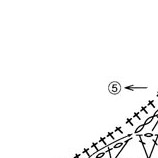enseble_chain: (88, 121, 135, 158), (117, 96, 158, 138), (103, 129, 143, 158), (135, 133, 154, 158), (123, 80, 151, 96), (74, 141, 100, 158), (142, 134, 158, 158), (107, 81, 122, 95)
